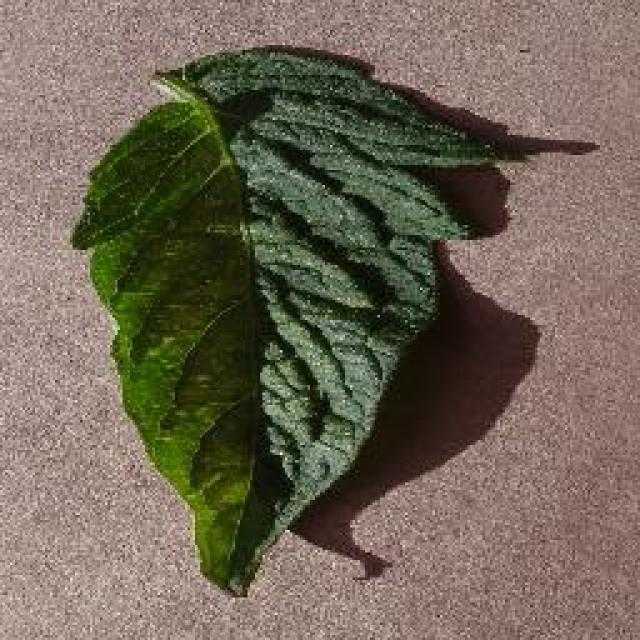Tomato___Spider_mites Two-spotted_spider_mite: (70, 48, 502, 595)
